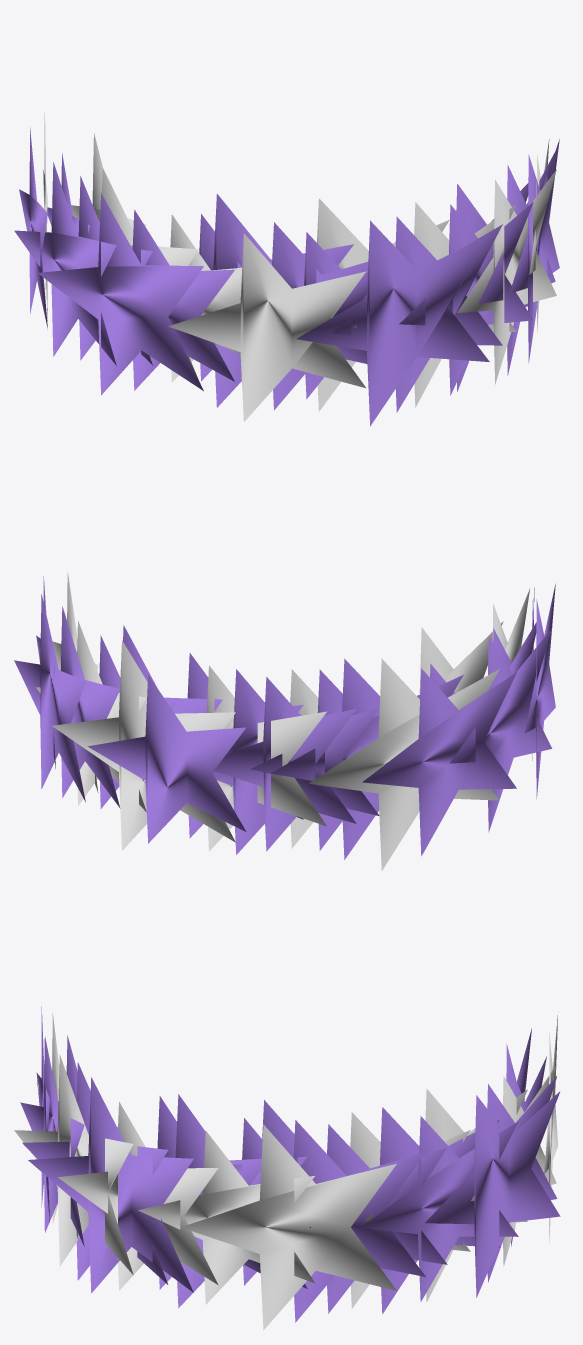
Rendered from PickUP.glb.
The picture shows the model from 3 angles, top to bottom: view 1: azimuth 30°, elevation 25°; view 2: azimuth 150°, elevation 25°; view 3: azimuth 270°, elevation 25°; orthographic projection. The views are drawn at different scales.
Visible parts, largest first — view 1: Graph; view 2: Graph; view 3: Graph.
Part boxes in pixels (x1,y1,x2,y2): Graph: [14, 113, 559, 426]; Graph: [14, 572, 555, 870]; Graph: [14, 1006, 560, 1330].
Size of the model in its own units: 2.08 by 0.9081 by 2.05.
